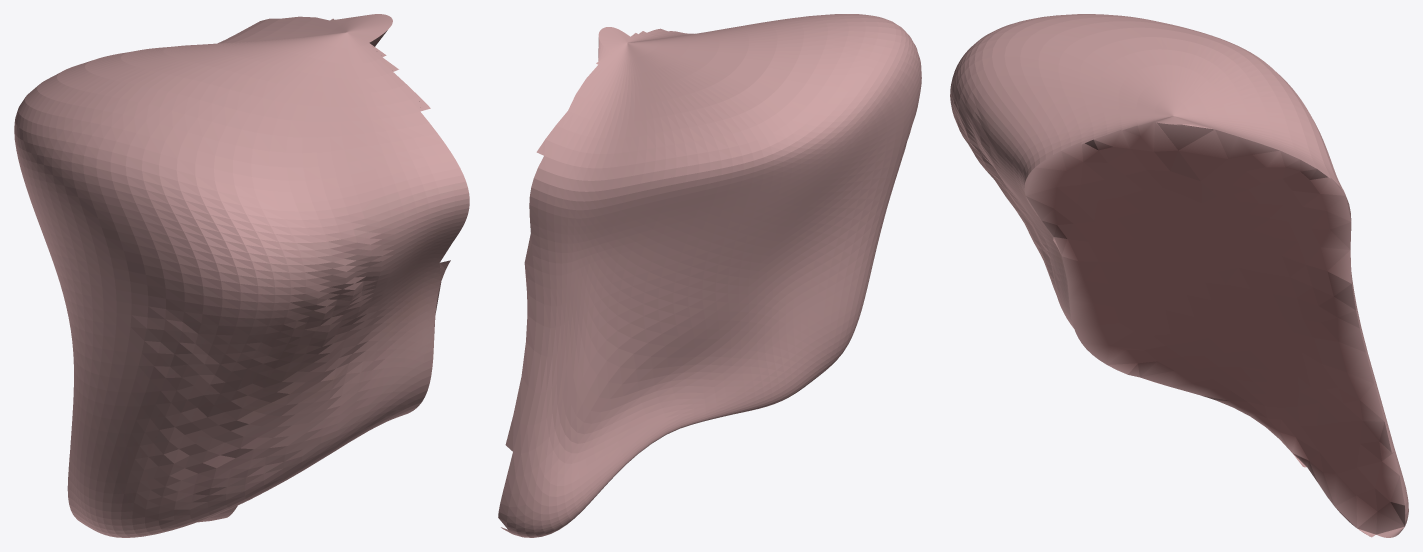
File: Midbrain.obj
The picture shows the model from 3 angles, left to right: view 1: azimuth 30°, elevation 25°; view 2: azimuth 150°, elevation 25°; view 3: azimuth 270°, elevation 25°; orthographic projection. The views are drawn at different scales.
Parts seen in each view (by area): view 1: obj0; view 2: obj0; view 3: obj0.
Part boxes in pixels (<box>): obj0: <box>14,14,469,537</box>; obj0: <box>498,14,921,537</box>; obj0: <box>950,14,1408,537</box>.
Bounding box in the file's own units: 10.45 × 16.97 × 16.31.
1 material, 1 textured.
